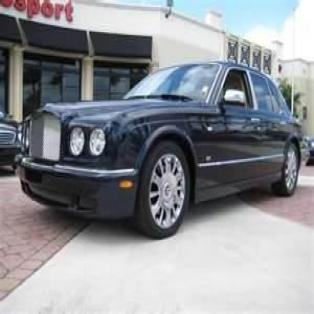Auto: (20, 63, 303, 236)
